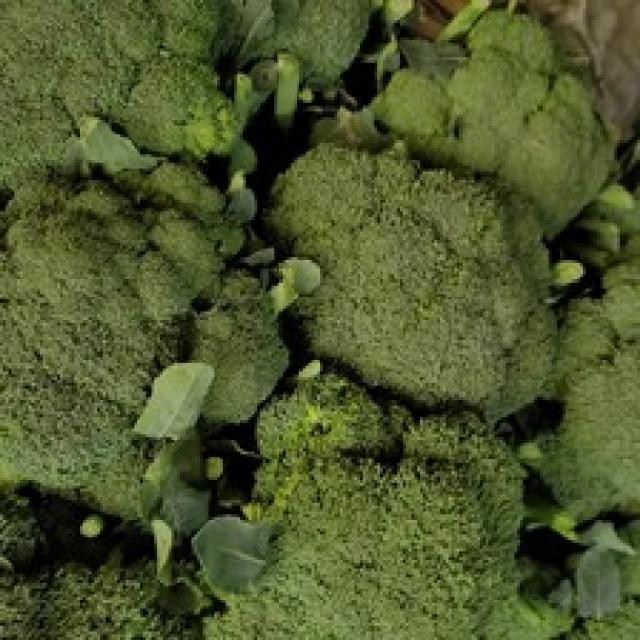broccoli: (3, 171, 640, 640), (266, 141, 554, 418), (230, 372, 516, 639)
